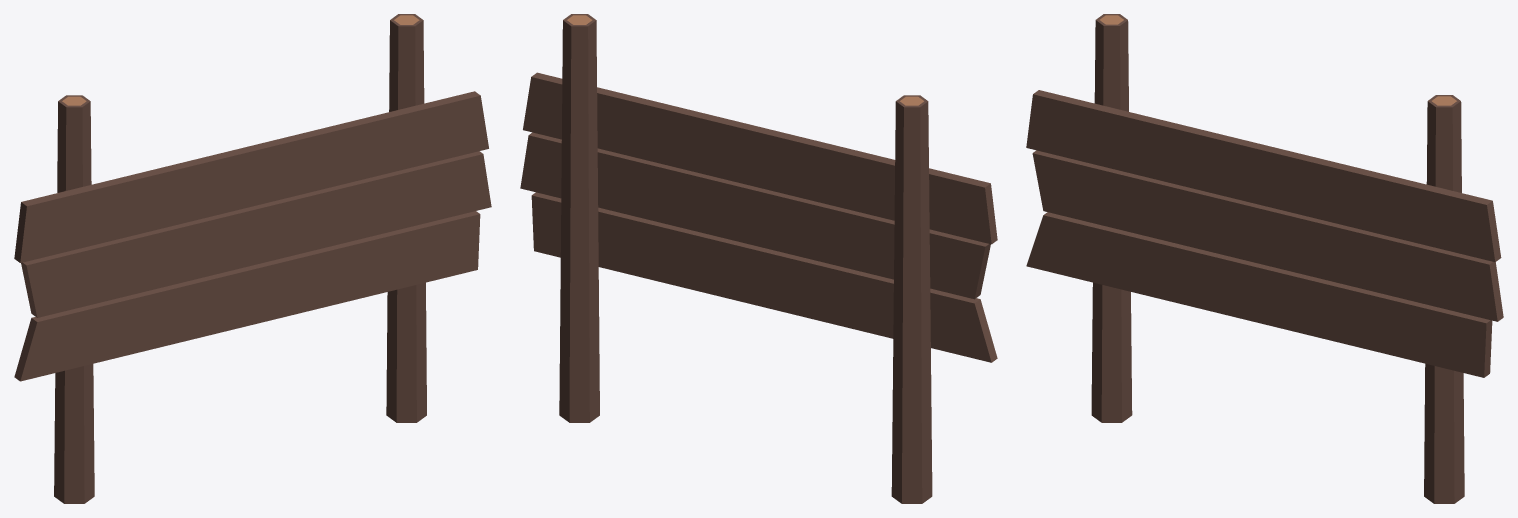
File: Fence_04.fbx
3 views of the same model, side by side, from view 1: azimuth 30°, elevation 25°; view 2: azimuth 150°, elevation 25°; view 3: azimuth 330°, elevation 25° (orthographic).
Visible parts, largest first — view 1: Fence_04; view 2: Fence_04; view 3: Fence_04.
Boxes of the visible parts, left/top/right/bottom form: Fence_04: left=14, top=14, right=491, bottom=503; Fence_04: left=520, top=14, right=997, bottom=503; Fence_04: left=1026, top=14, right=1503, bottom=503.
Size of the model in its own units: 303 by 243 by 28.85.
